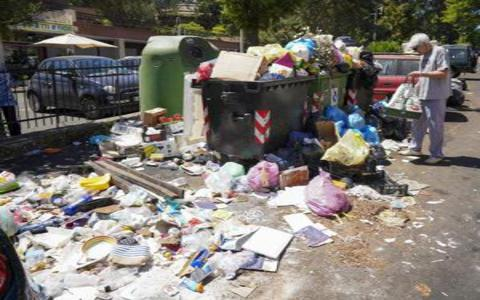overflowing garbage: (204, 49, 321, 252), (321, 43, 401, 217)
